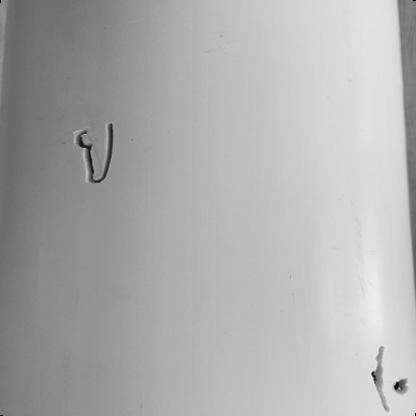fengxi: (73, 120, 121, 185)
kongdong: (363, 340, 392, 412), (392, 372, 411, 397)
